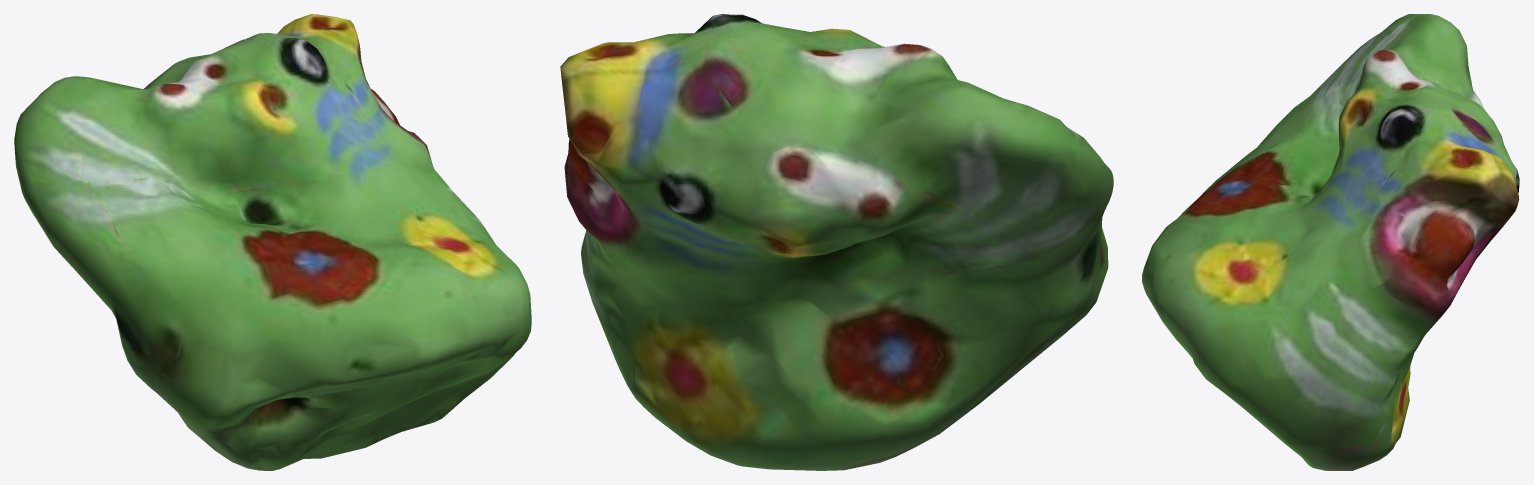
File: hall.glb
3 views of the same model, side by side, from view 1: azimuth 30°, elevation 25°; view 2: azimuth 150°, elevation 25°; view 3: azimuth 270°, elevation 25° (orthographic). The views are drawn at different scales.
Bounding box in the file's own units: 0.2442 × 0.2076 × 0.2058.
1 material, 1 textured.
